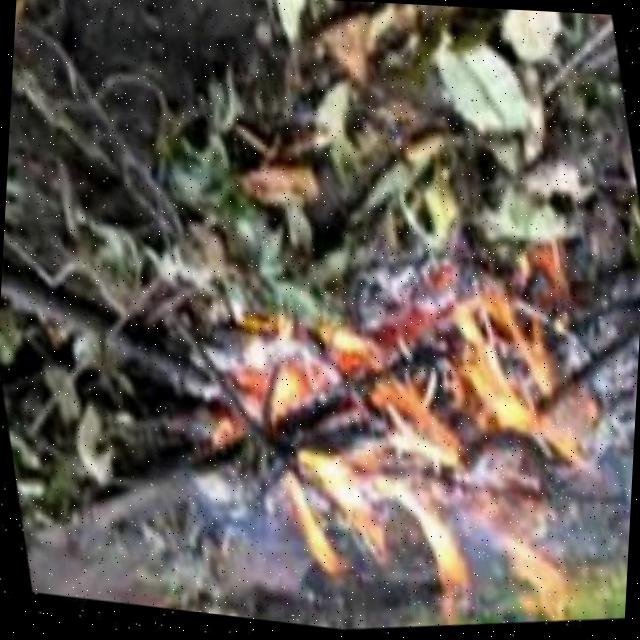fire: (193, 256, 640, 640)
